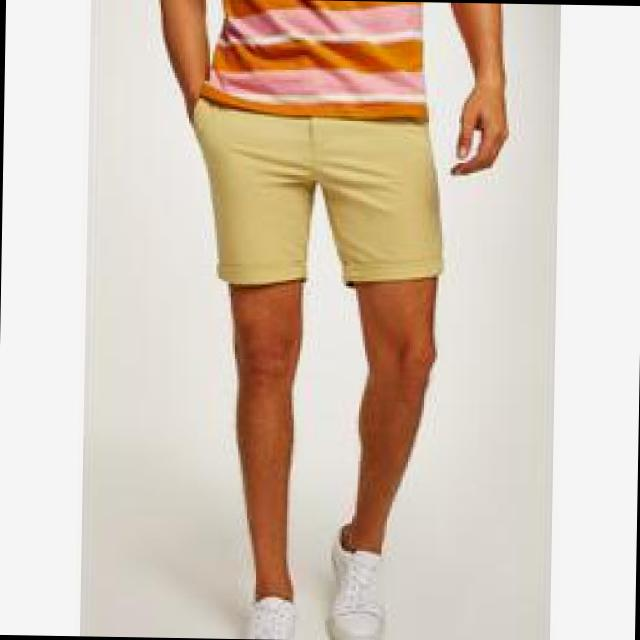short: (187, 80, 443, 290)
